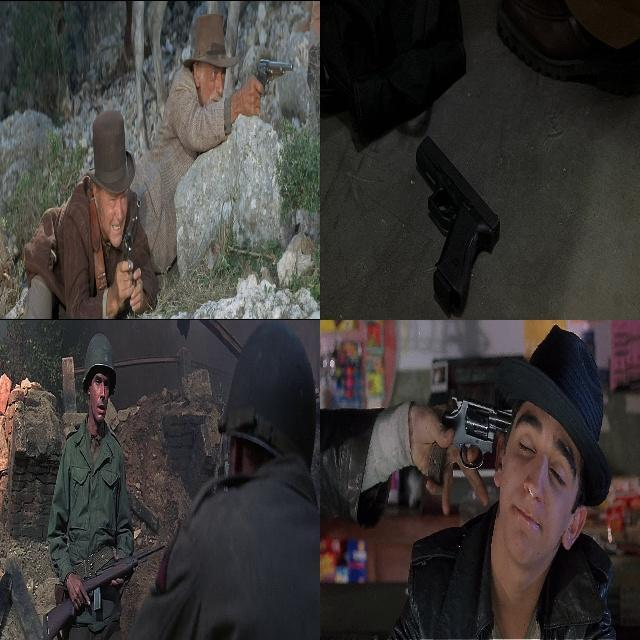gun-knife-thesis - v11 Yolov5 augmented: (414, 132, 500, 315), (41, 539, 164, 639), (426, 391, 512, 485), (246, 56, 293, 117), (119, 194, 140, 303)
